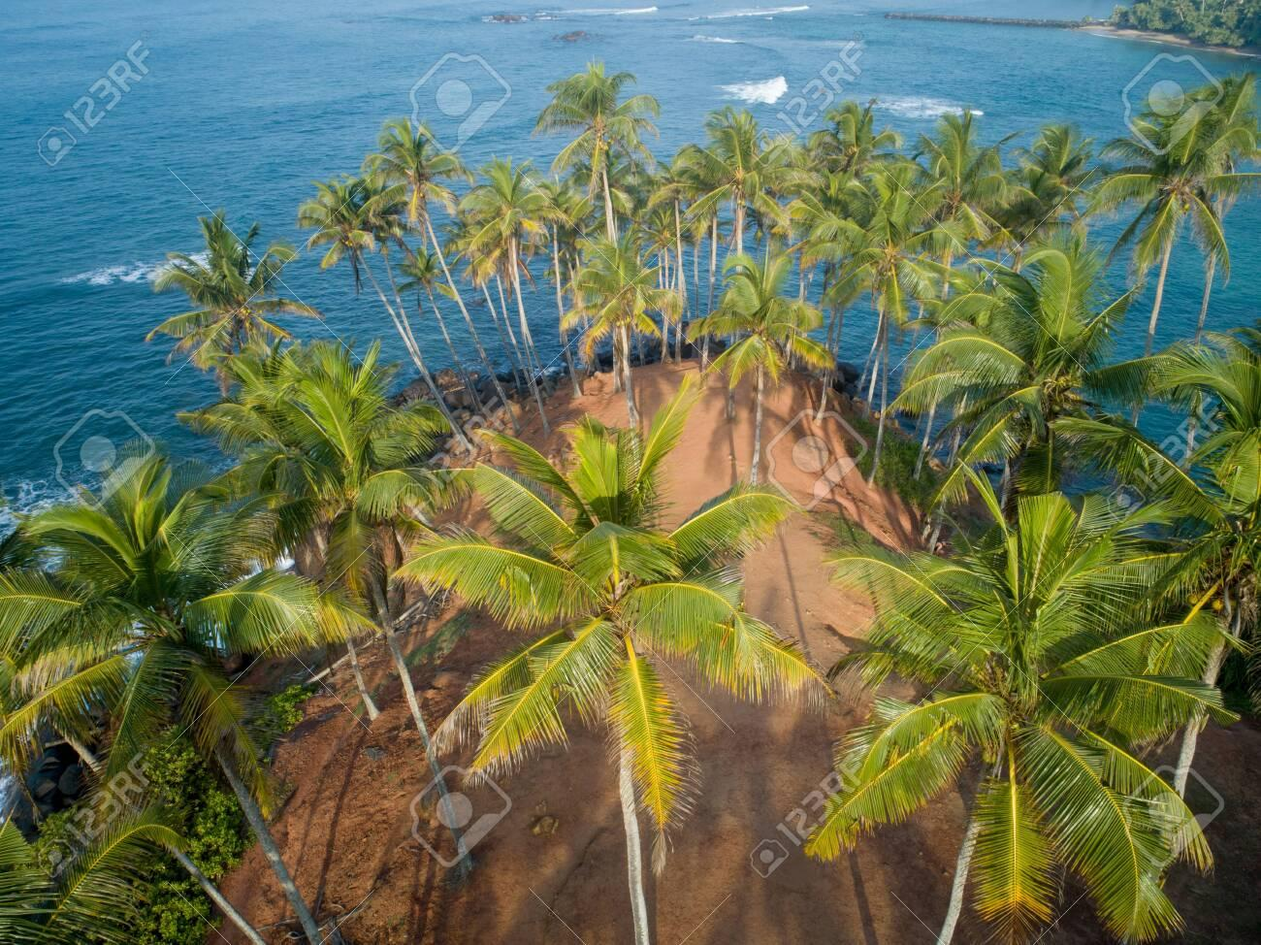coconut_tree: (834, 471, 1219, 929), (3, 458, 376, 906), (459, 414, 823, 835), (214, 352, 514, 572), (909, 233, 1164, 485), (145, 229, 326, 350)
